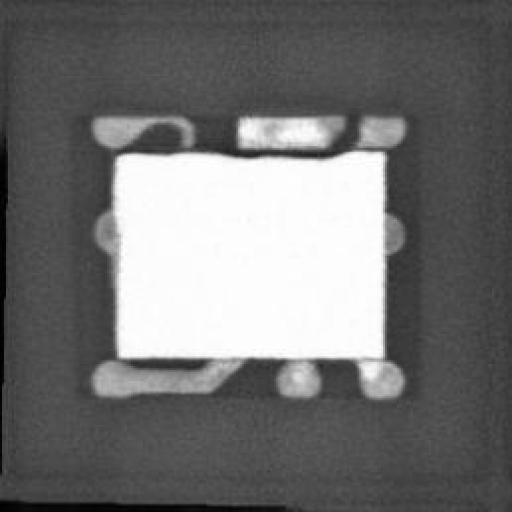DIE_BROKEN: (206, 142, 350, 160)
